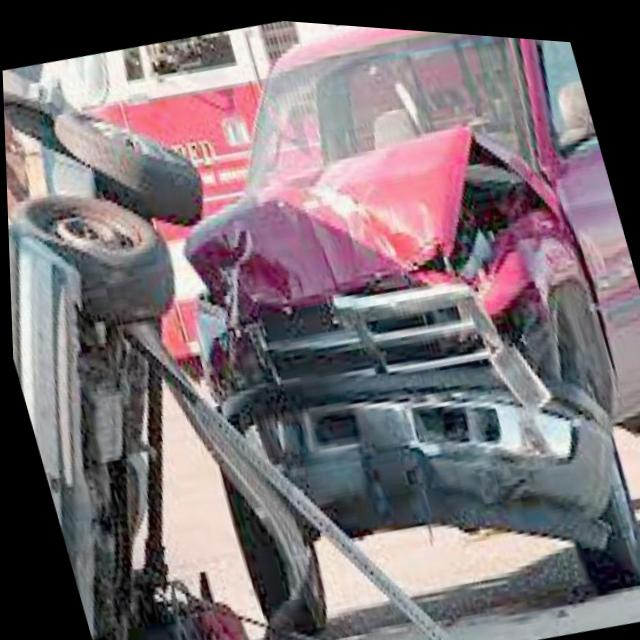Car-Damage: (154, 90, 640, 619)
